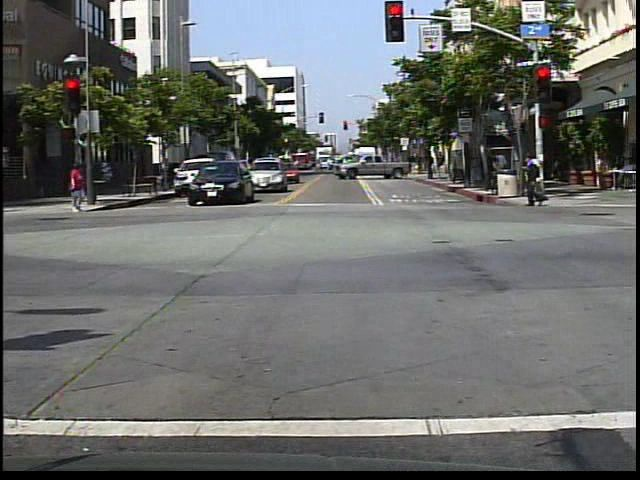person: (519, 152, 551, 210), (526, 145, 547, 200), (610, 149, 636, 193), (68, 161, 88, 215)
